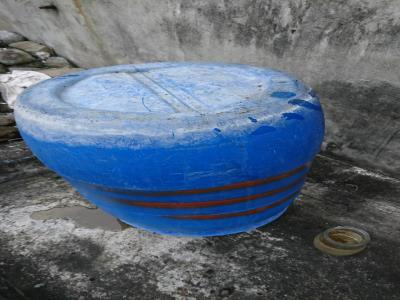bucket: (11, 60, 330, 241)
